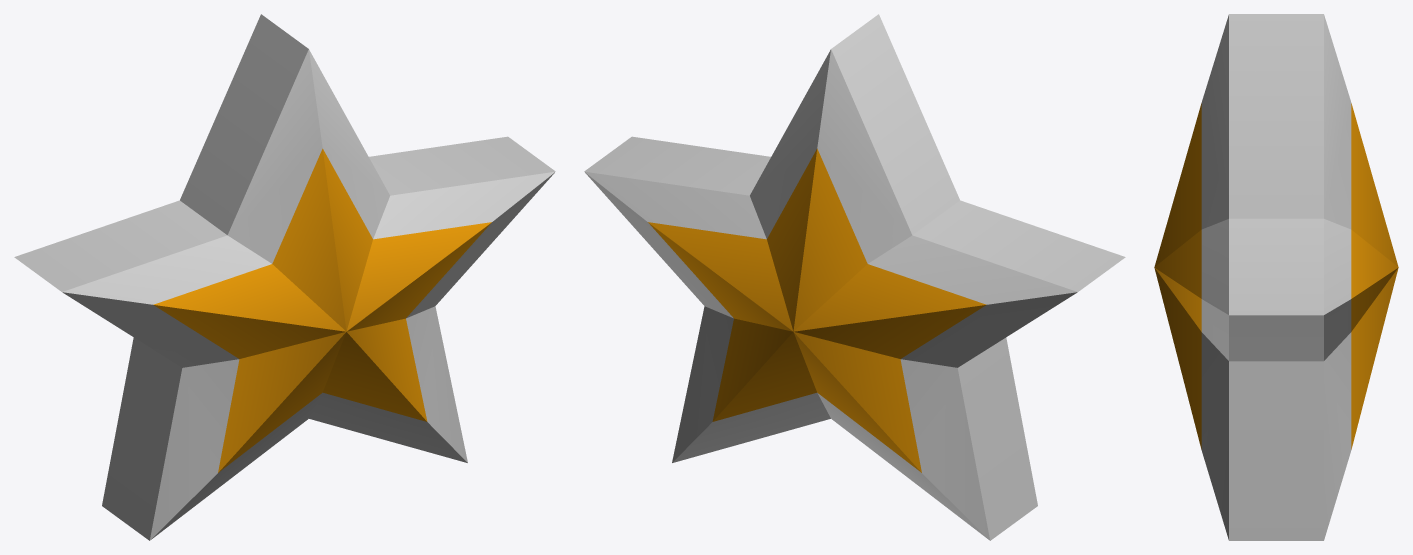
The model's file is obj_dekotora_star.fbx.
The picture shows the model from 3 angles, left to right: view 1: azimuth 30°, elevation 25°; view 2: azimuth 150°, elevation 25°; view 3: azimuth 270°, elevation 25°; orthographic projection.
Visible parts, largest first — view 1: Cube.091; view 2: Cube.091; view 3: Cube.091.
Part boxes in pixels (x1,y1,x2,y2): Cube.091: (14,14,555,540); Cube.091: (584,14,1125,540); Cube.091: (1154,14,1398,540).
Bounding box in the file's own units: 2.28 × 2 × 0.9839.
